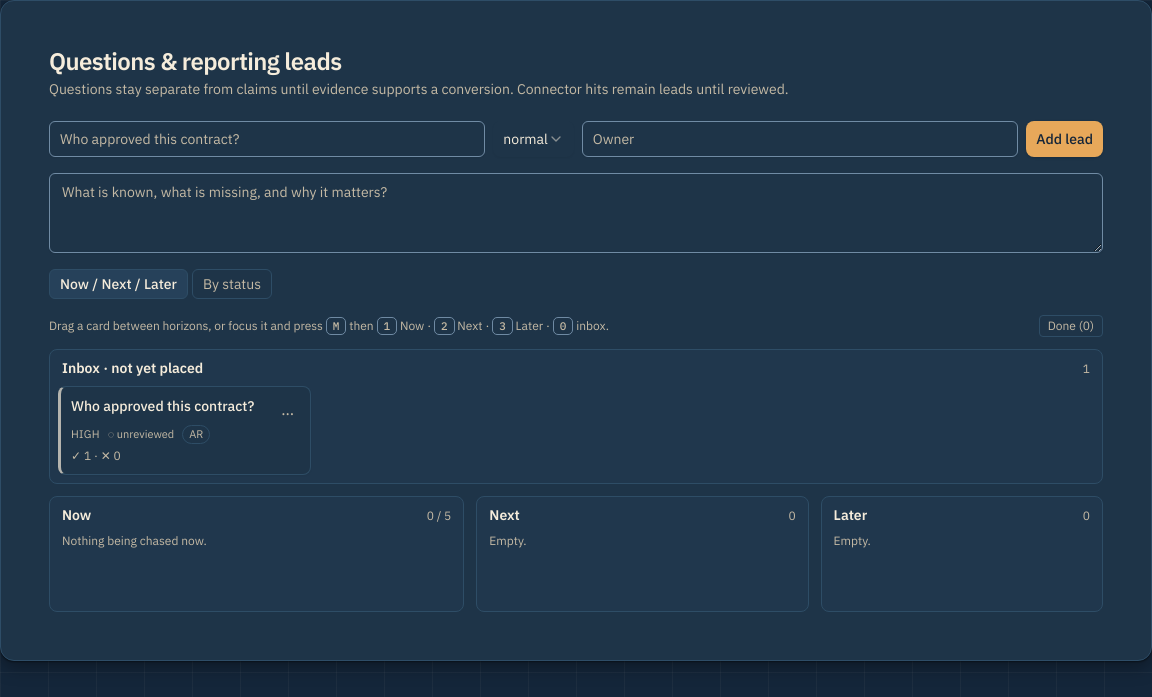
Test: LeadsPanel › shows the server's reason when a change is refused
Check: the text "Who approved this contract?" is shown, box [71, 397, 267, 416]
Click the button "By status". click: (232, 284)
box: [192, 269, 272, 299]
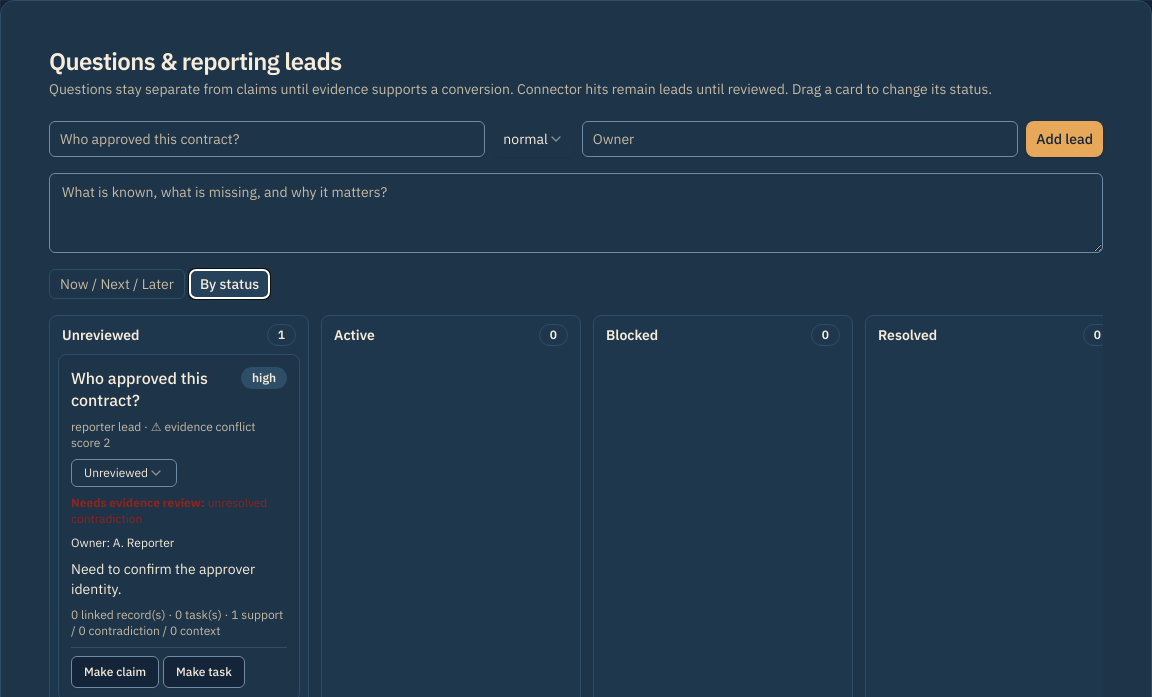
Click the button "Make task". click: (204, 672)
box: [163, 656, 245, 688]
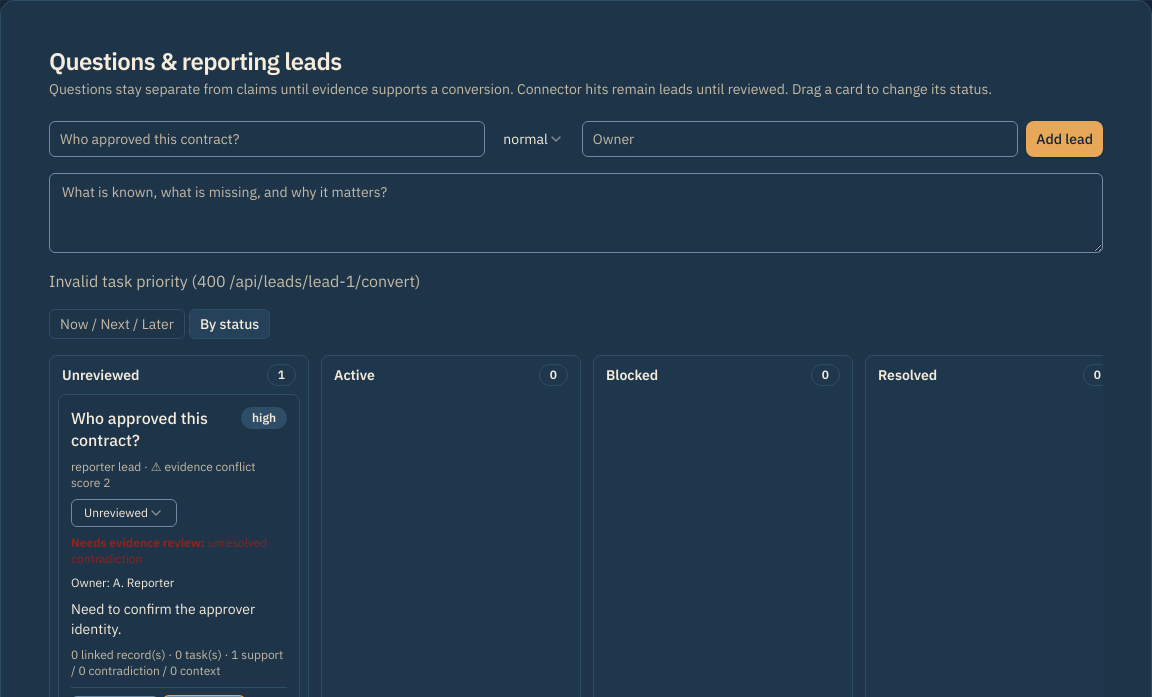
Check: the text "Invalid task priority (400 /api/leads/lead-1/convert)" is shown, box [49, 271, 420, 291]
